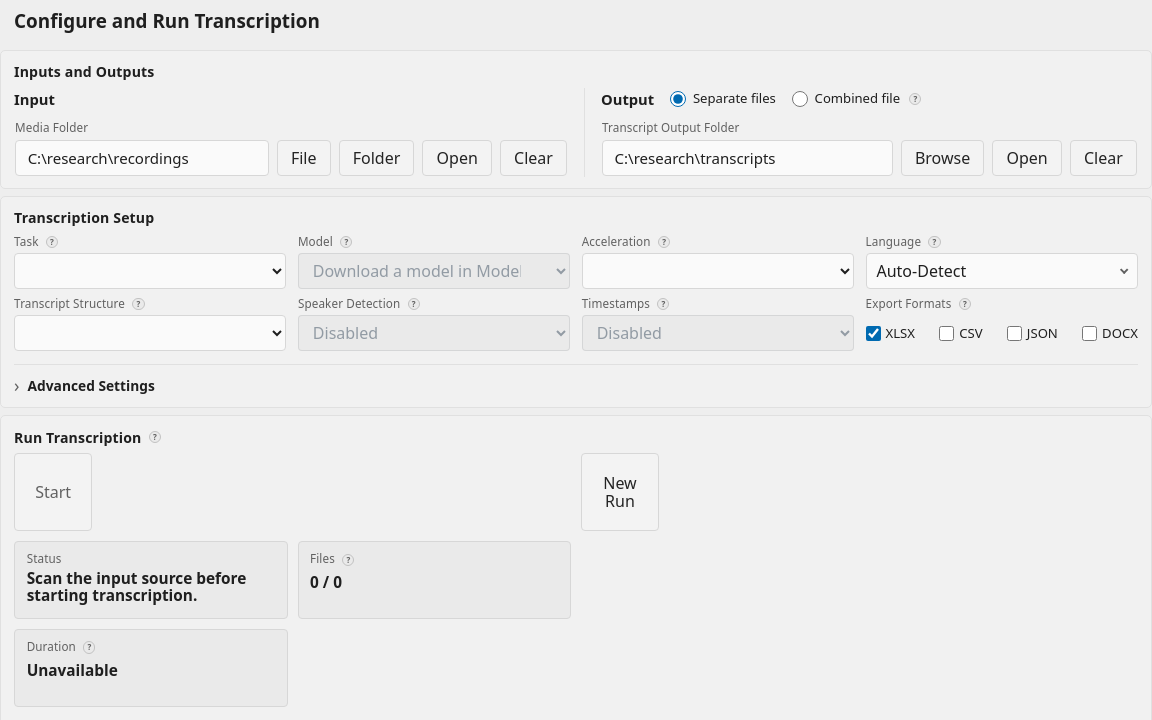
Test: Transcription Inputs and Outputs › offers direct File and Folder picker actions
Step 1. Click the button "File" → {"x": 304, "y": 158}, box [277,140,331,176]
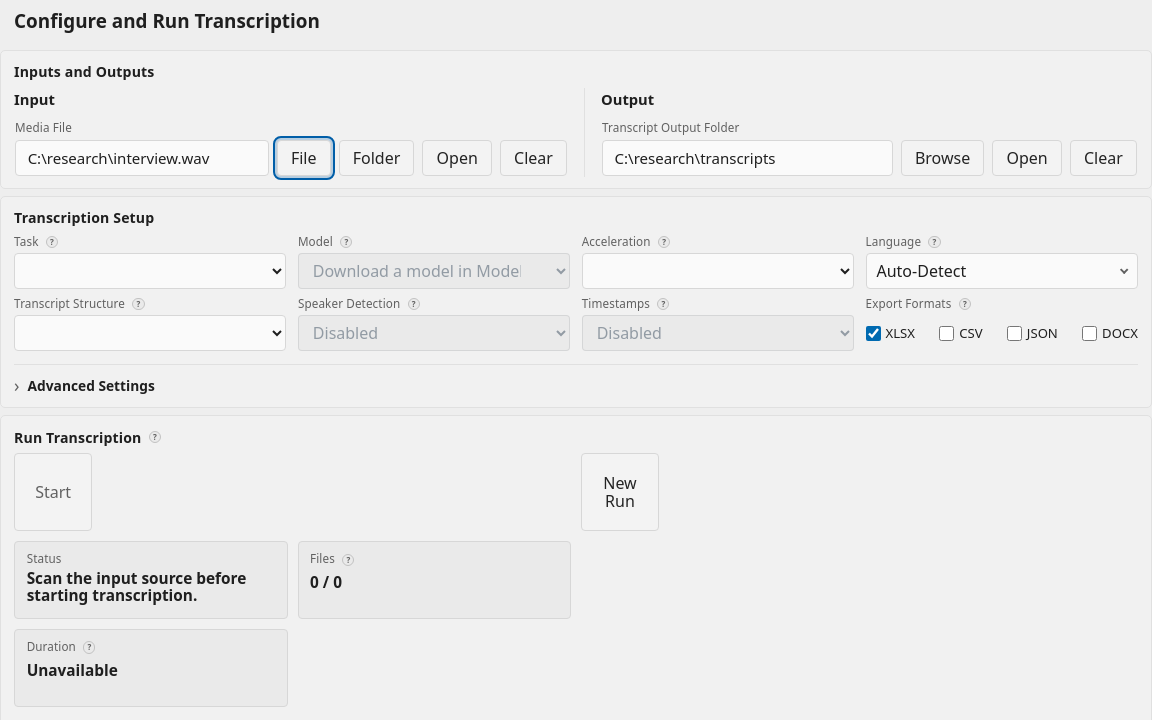
Result: the field named "media file" holds "C:\\research\\interview.wav" at [15,140,269,176]
Step 2. Click the button "Folder" → {"x": 376, "y": 158}, box [339,140,414,176]
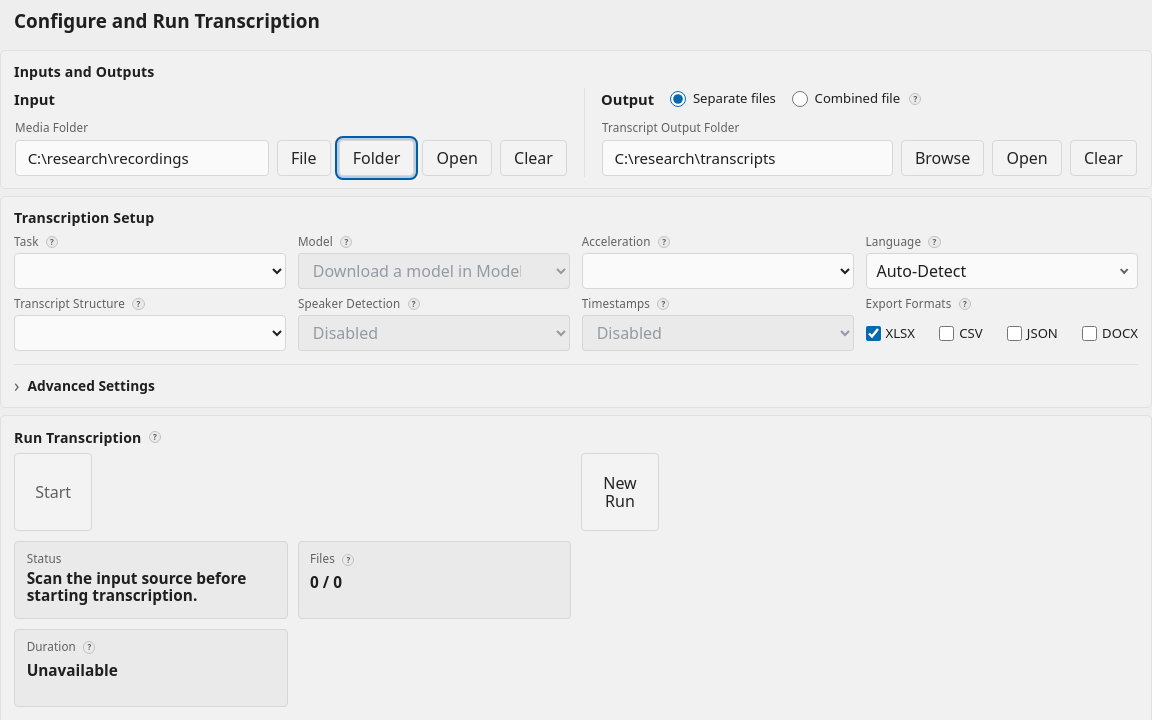
Expected: the button "New Run" is enabled, [581,453,659,531]
Result: the field named "Media Folder" holds "C:\\research\\recordings" at [15,140,269,176]
Result: the element named "Transcript Files" is shown at [670,89,900,109]
